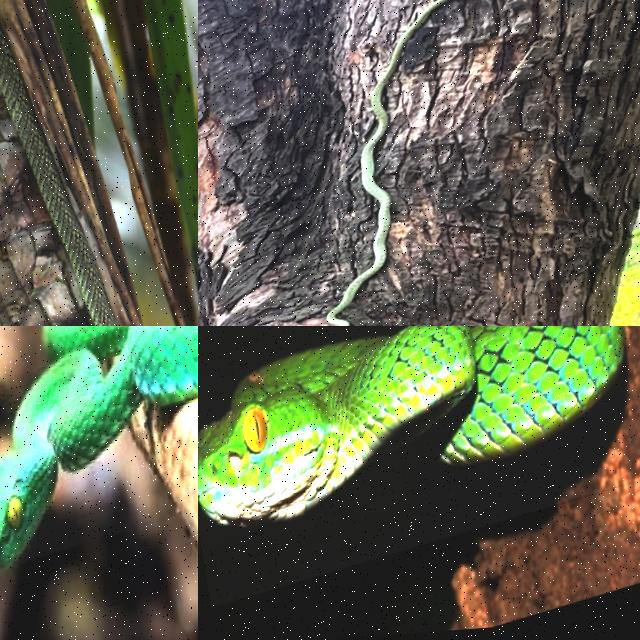Chrysopelea ornata: (326, 0, 450, 325), (0, 33, 112, 325)
Trimeresurus macrops: (198, 326, 624, 527), (0, 326, 197, 568)
